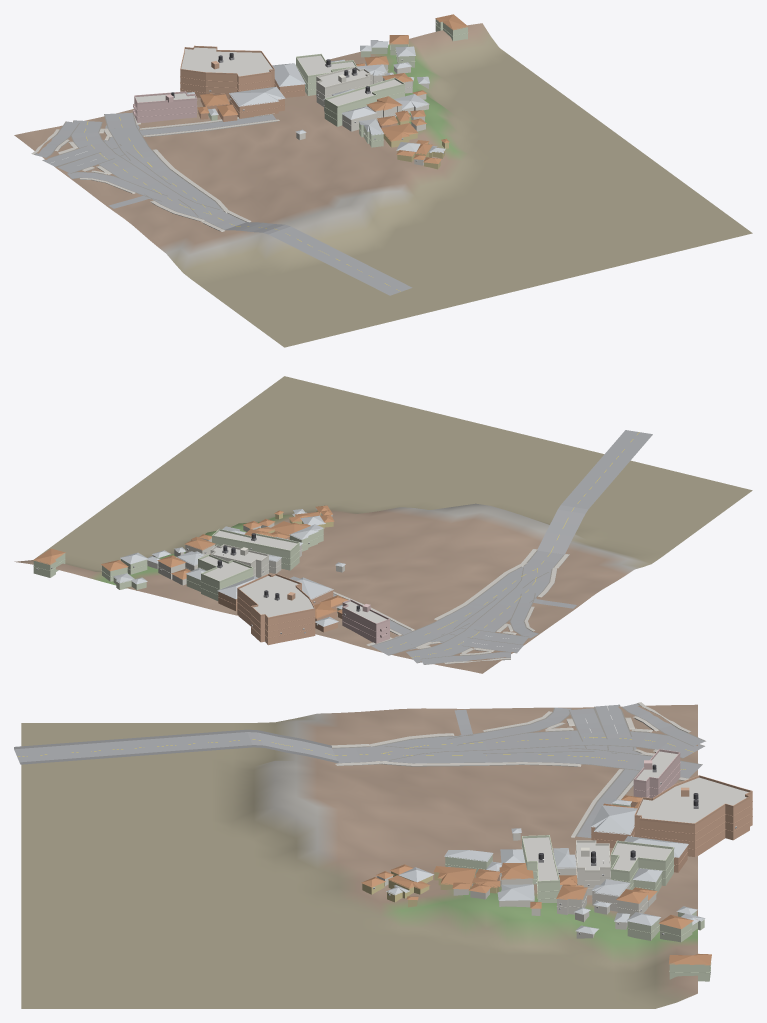
3 renders of one model, top to bottom at view 1: azimuth 30°, elevation 25°; view 2: azimuth 150°, elevation 25°; view 3: azimuth 270°, elevation 25°, orthographic. The views are drawn at different scales.
Visible parts, largest first — view 1: Terrain-col, Buildings-col, Roads-col, Details, Sidewalks-col; view 2: Terrain-col, Buildings-col, Roads-col, Details, Sidewalks-col; view 3: Terrain-col, Buildings-col, Roads-col, Details, Sidewalks-col.
Part boxes in pixels (bbox=[...]): Terrain-col: bbox=[14, 23, 752, 347]; Buildings-col: bbox=[134, 14, 468, 169]; Roads-col: bbox=[34, 112, 412, 295]; Details: bbox=[133, 22, 467, 161]; Sidewalks-col: bbox=[31, 113, 279, 231]; Terrain-col: bbox=[14, 376, 752, 673]; Buildings-col: bbox=[33, 505, 389, 645]; Roads-col: bbox=[333, 430, 652, 664]; Details: bbox=[33, 508, 390, 638]; Sidewalks-col: bbox=[333, 549, 569, 664]; Terrain-col: bbox=[21, 704, 697, 1008]; Buildings-col: bbox=[361, 751, 752, 981]; Roads-col: bbox=[14, 703, 705, 837]; Details: bbox=[373, 749, 752, 973]; Sidewalks-col: bbox=[331, 702, 690, 837].
Bounding box in the file's own units: 259 × 23.05 × 280.
